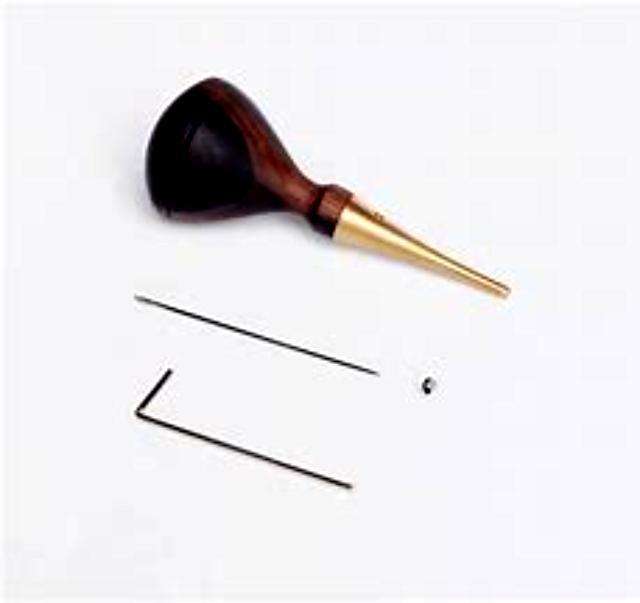ice pick: (146, 74, 506, 318)
